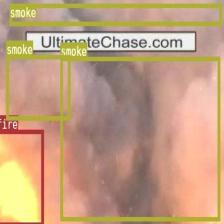fire: (0, 129, 43, 224)
smoke: (60, 56, 219, 220), (9, 3, 221, 25), (6, 55, 70, 119)
